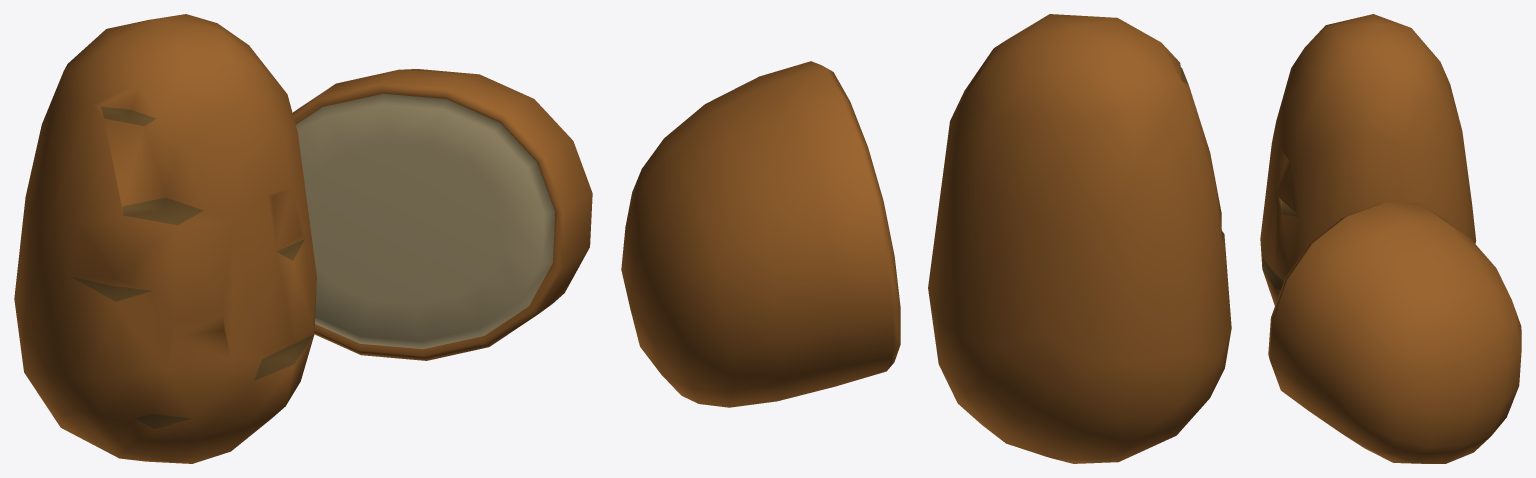
File: potato.fbx
The picture shows the model from 3 angles, left to right: view 1: azimuth 30°, elevation 25°; view 2: azimuth 150°, elevation 25°; view 3: azimuth 270°, elevation 25°; orthographic projection. The views are drawn at different scales.
Parts seen in each view (by area): view 1: Cube.003, Cube.004; view 2: Cube.003, Cube.004; view 3: Cube.004, Cube.003.
Part boxes in pixels (x1,y1,x2,y2): Cube.003: [14, 14, 316, 463]; Cube.004: [292, 69, 592, 360]; Cube.003: [928, 14, 1231, 463]; Cube.004: [621, 61, 900, 407]; Cube.004: [1268, 202, 1521, 463]; Cube.003: [1260, 14, 1476, 305].
Size of the model in its own units: 263 by 193 by 140.
